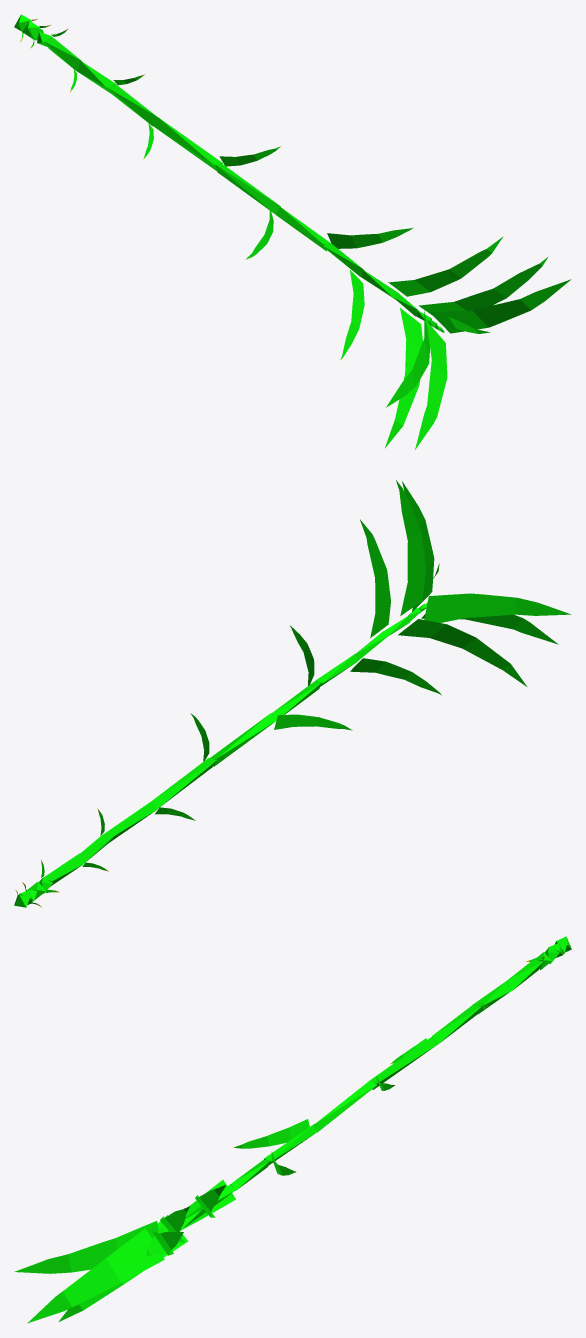
Rendered from usm_18_Beer_2018-08-21_6.obj.
3 views of the same model, one above another, from view 1: azimuth 30°, elevation 25°; view 2: azimuth 150°, elevation 25°; view 3: azimuth 330°, elevation 25° (orthographic). The views are drawn at different scales.
Visible parts, largest first — view 1: vid_36, vid_38, vid_32, vid_28, vid_30, vid_34, vid_24, vid_19, vid_26, vid_21, vid_17, vid_23; view 2: vid_34, vid_30, vid_32, vid_28, vid_26, vid_36, vid_38, vid_19, vid_21, vid_22, vid_17; view 3: vid_38, vid_34, vid_22, vid_19, vid_21, vid_30, vid_17, vid_23.
Boxes of the visible parts, x1,y1,x2,y2 form: vid_36: (430, 279, 571, 333); vid_38: (415, 320, 447, 449); vid_32: (419, 257, 547, 315); vid_28: (388, 237, 502, 296); vid_30: (385, 308, 422, 447); vid_34: (386, 310, 429, 407); vid_24: (327, 228, 412, 248); vid_19: (153, 117, 222, 170); vid_26: (340, 270, 364, 359); vid_21: (215, 164, 280, 213); vid_17: (106, 84, 157, 126); vid_23: (275, 207, 329, 251); vid_34: (424, 593, 571, 622); vid_30: (398, 619, 526, 686); vid_32: (396, 480, 426, 615); vid_28: (360, 519, 390, 638); vid_26: (350, 658, 441, 694); vid_36: (402, 481, 434, 611); vid_38: (421, 614, 558, 644); vid_19: (153, 758, 216, 808); vid_21: (210, 713, 276, 766); vid_22: (274, 714, 350, 730); vid_17: (104, 800, 157, 843); vid_38: (27, 1228, 164, 1323); vid_34: (14, 1221, 162, 1273); vid_22: (234, 1119, 309, 1148); vid_19: (370, 1036, 436, 1089); vid_21: (314, 1080, 377, 1132); vid_30: (59, 1215, 188, 1321); vid_17: (432, 1005, 481, 1044); vid_23: (264, 1124, 317, 1165).
Bounding box in the file's own units: 61.06 × 53.91 × 278.
